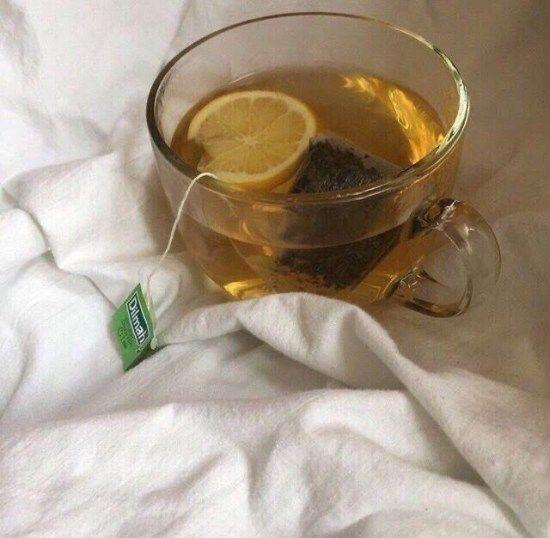glass-mug: (145, 8, 503, 324)
